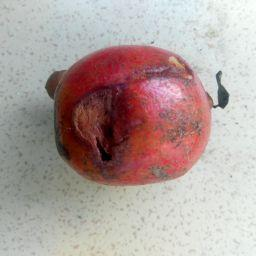pomegranate: (45, 43, 229, 186)
